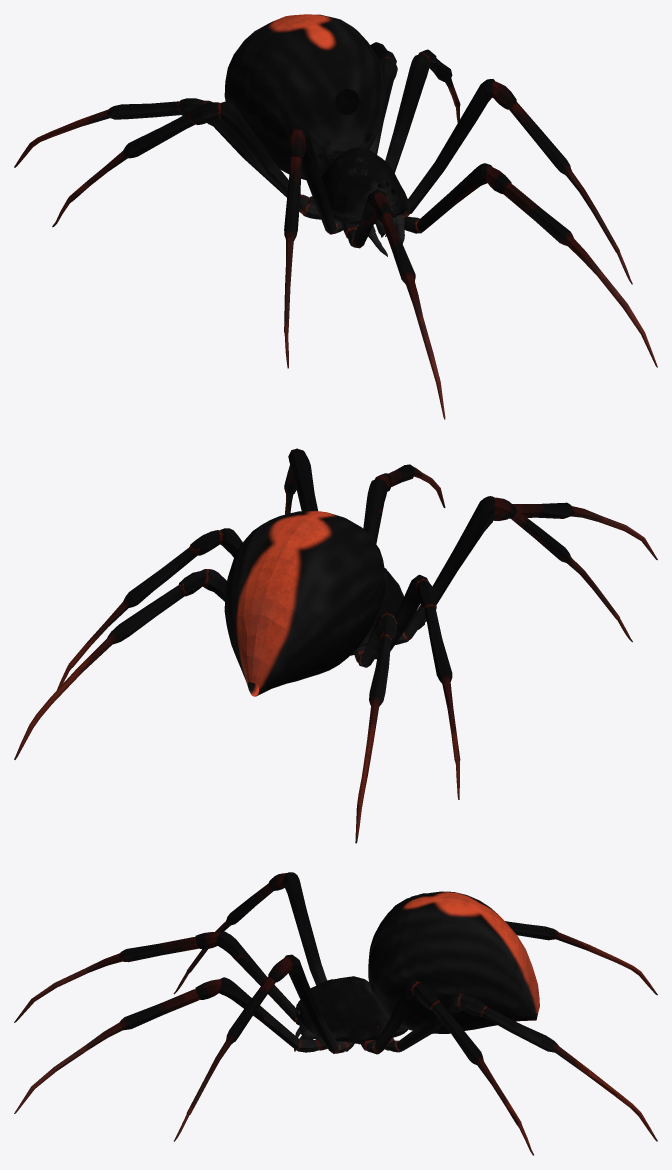
The model's file is spider_.fbx.
The picture shows the model from 3 angles, top to bottom: view 1: azimuth 30°, elevation 25°; view 2: azimuth 150°, elevation 25°; view 3: azimuth 270°, elevation 25°; orthographic projection. The views are drawn at different scales.
Visible parts, largest first — view 1: Object001; view 2: Object001; view 3: Object001.
Part boxes in pixels (bbox=[...]): Object001: bbox=[14, 14, 657, 419]; Object001: bbox=[14, 448, 657, 843]; Object001: bbox=[14, 872, 657, 1155].
Size of the model in its own units: 21.07 by 9.58 by 32.86.
Materials: 1 (1 with a texture image).
